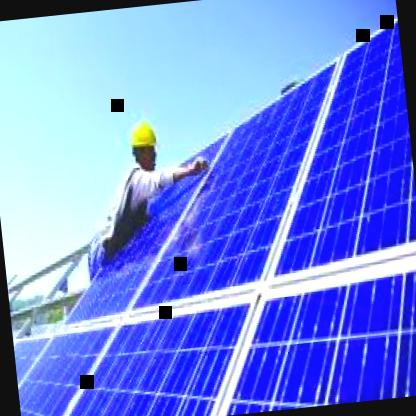helmet: (126, 112, 162, 172)
